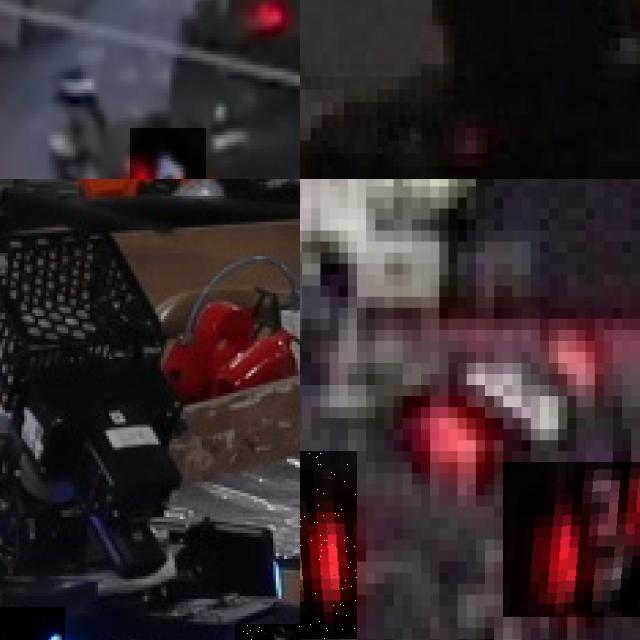R3: (503, 462, 640, 616), (300, 451, 357, 638)
R5: (130, 128, 205, 179)
